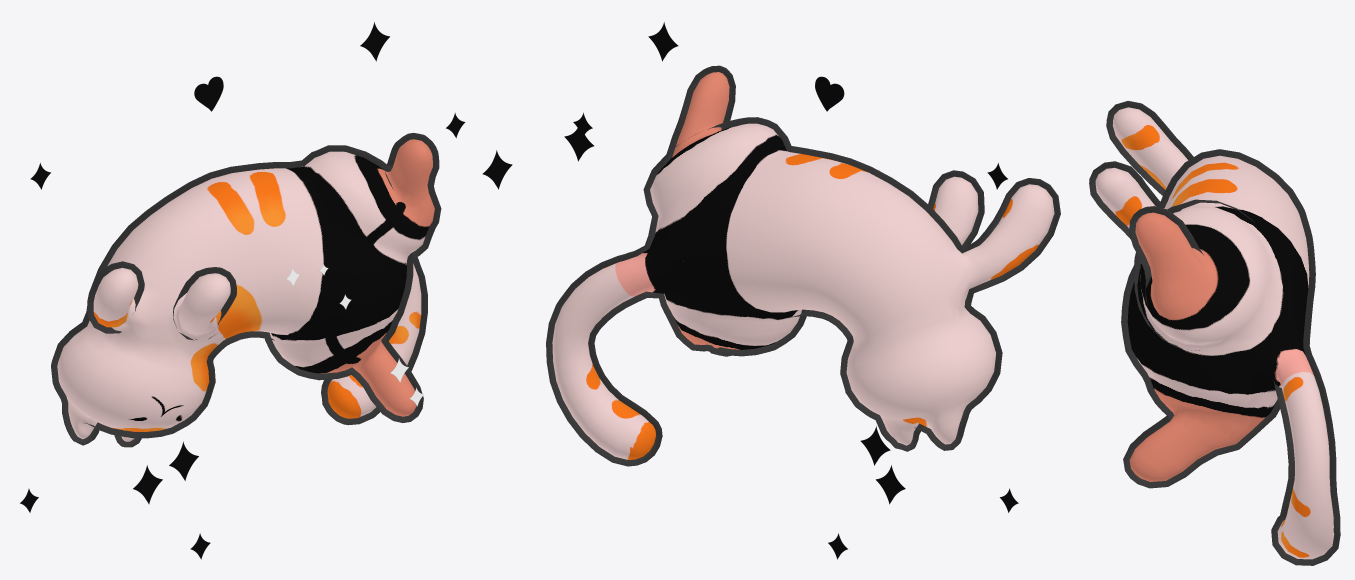
File: third cat.gltf
The picture shows the model from 3 angles, left to right: view 1: azimuth 30°, elevation 25°; view 2: azimuth 150°, elevation 25°; view 3: azimuth 270°, elevation 25°; orthographic projection.
Visible parts, largest first — view 1: polySurface10_cat4_0, polySurface9_line_0, pPlane27; view 2: polySurface10_cat4_0, polySurface9_line_0, pPlane27; view 3: polySurface10_cat4_0, polySurface9_line_0.
Boxes of the visible parts, left/top/right/bottom form: polySurface10_cat4_0: left=57, top=139, right=434, bottom=441; polySurface9_line_0: left=51, top=133, right=441, bottom=447; pPlane27: left=194, top=76, right=223, bottom=111; polySurface10_cat4_0: left=552, top=72, right=1054, bottom=459; polySurface9_line_0: left=546, top=65, right=1060, bottom=466; pPlane27: left=815, top=76, right=844, bottom=111; polySurface10_cat4_0: left=1095, top=107, right=1334, bottom=559; polySurface9_line_0: left=1089, top=101, right=1340, bottom=565.
Size of the model in its own units: 1.96 by 1.93 by 0.8644.
3 materials, 2 textured.
